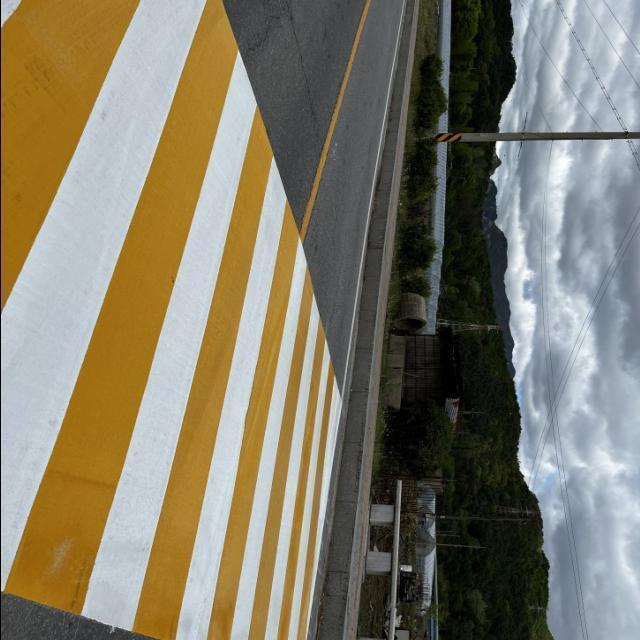speedbreaker: (0, 0, 346, 640)
